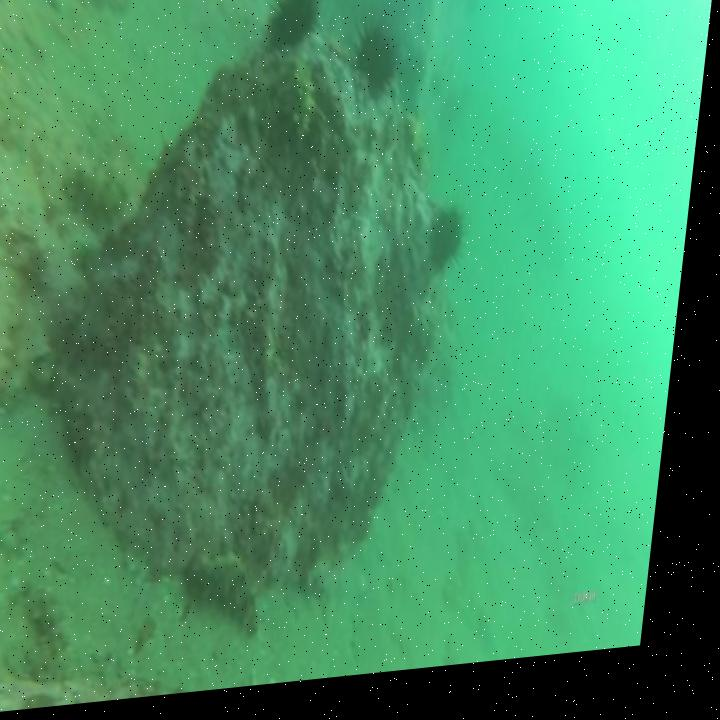echinus: (345, 11, 409, 115), (429, 197, 482, 290), (263, 0, 330, 63)
holothurian: (197, 540, 285, 658), (25, 582, 98, 690), (62, 149, 141, 238), (286, 60, 326, 148)
